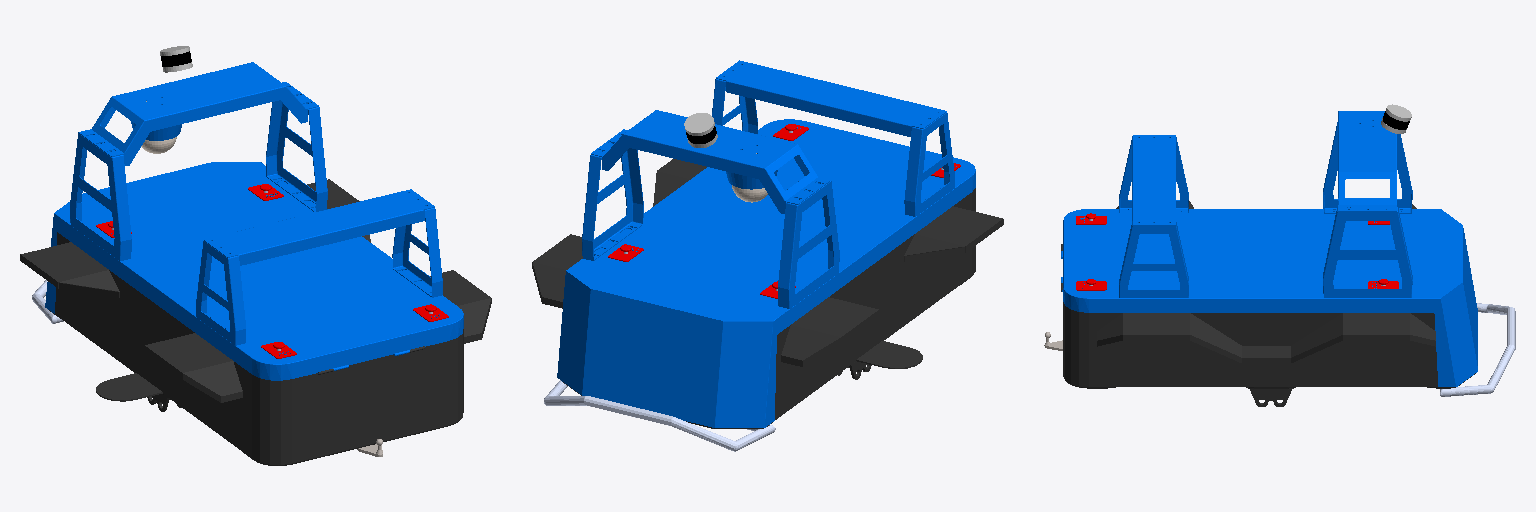
URDF robot description (RAMBLER):
<?xml version="1.0"?>
<robot name="RAMBLER">
    <link name="base_link">
    <origin xyz="-15.504313 -8.557643 3.314363" rpy="3.141593 3.141593 3.141593" />
    </link>

    <joint name="base_link_joint" type="fixed">
        <parent link="base_link" />
        <child link="robot_base" />
    </joint>

    <link name="robot_base">
        <inertial>
            <origin xyz="-15.504313 -8.557643 3.314363" rpy="3.141593 3.141593 3.141593" />
            <inertia ixz="0.012955593294464" iyz="-0.62177264336981" izz="55.457934895277" ixy="0.0033341139937936" ixx="47.602401586312" iyy="25.482708212512" />
            <mass value="166.16000366211" />
        </inertial>

        <visual name="Chasis_1">
            <origin xyz="-15.524034 -8.549997 3.433629" rpy="3.141592 3.141593 3.141592" />
            <geometry>
                <mesh filename="rambler_Chasis_vis_1.dae" />
            </geometry>
            <material name="Chasis_material_1">
                <color rgba="0.000000 0.500000 1.000000 1.0" />
            </material>
        </visual>
        <visual name="Chasis_2">
            <origin xyz="-15.524034 -8.549997 3.433629" rpy="3.141592 3.141593 3.141592" />
            <geometry>
                <mesh filename="rambler_Chasis_vis_2.dae" />
            </geometry>
            <material name="Chasis_material_2">
                <color rgba="0.780000 0.750000 0.730000 1.0" />
            </material>
        </visual>
        <visual name="Chasis_3">
            <origin xyz="-15.524034 -8.549997 3.433629" rpy="3.141592 3.141593 3.141592" />
            <geometry>
                <mesh filename="rambler_Chasis_vis_3.dae" />
            </geometry>
            <material name="Chasis_material_3">
                <color rgba="0.860000 0.900000 1.000000 1.0" />
            </material>
        </visual>
        <visual name="Chasis_4">
            <origin xyz="-15.524034 -8.549997 3.433629" rpy="3.141592 3.141593 3.141592" />
            <geometry>
                <mesh filename="rambler_Chasis_vis_4.dae" />
            </geometry>
            <material name="Chasis_material_4">
                <color rgba="0.250000 0.250000 0.250000 1.0" />
            </material>
        </visual>
        <visual name="Chasis_5">
            <origin xyz="-15.524034 -8.549997 3.433629" rpy="3.141592 3.141593 3.141592" />
            <geometry>
                <mesh filename="rambler_Chasis_vis_5.dae" />
            </geometry>
            <material name="Chasis_material_5">
                <color rgba="0.750000 0.750000 0.750000 1.0" />
            </material>
        </visual>
        <visual name="Chasis_6">
            <origin xyz="-15.524034 -8.549997 3.433629" rpy="3.141592 3.141593 3.141592" />
            <geometry>
                <mesh filename="rambler_Chasis_vis_6.dae" />
            </geometry>
            <material name="Chasis_material_6">
                <color rgba="0.750000 0.750000 0.750000 1.0" />
            </material>
        </visual>
        <visual name="Chasis_7">
            <origin xyz="-15.524034 -8.549997 3.433629" rpy="3.141592 3.141593 3.141592" />
            <geometry>
                <mesh filename="rambler_Chasis_vis_7.dae" />
            </geometry>
            <material name="Chasis_material_7">
                <color rgba="0.750000 0.750000 0.750000 1.0" />
            </material>
        </visual>
        <visual name="Chasis_8">
            <origin xyz="-15.524034 -8.549997 3.433629" rpy="3.141592 3.141593 3.141592" />
            <geometry>
                <mesh filename="rambler_Chasis_vis_8.dae" />
            </geometry>
            <material name="Chasis_material_8">
                <color rgba="0.750000 0.750000 0.750000 1.0" />
            </material>
        </visual>
        <visual name="Chasis_9">
            <origin xyz="-15.524034 -8.549997 3.433629" rpy="3.141592 3.141593 3.141592" />
            <geometry>
                <mesh filename="rambler_Chasis_vis_9.dae" />
            </geometry>
            <material name="Chasis_material_9">
                <color rgba="0.750000 0.750000 0.750000 1.0" />
            </material>
        </visual>
        <visual name="Chasis_10">
            <origin xyz="-15.524034 -8.549997 3.433629" rpy="3.141592 3.141593 3.141592" />
            <geometry>
                <mesh filename="rambler_Chasis_vis_10.dae" />
            </geometry>
            <material name="Chasis_material_10">
                <color rgba="0.750000 0.750000 0.750000 1.0" />
            </material>
        </visual>
        <visual name="Chasis_11">
            <origin xyz="-15.524034 -8.549997 3.433629" rpy="3.141592 3.141593 3.141592" />
            <geometry>
                <mesh filename="rambler_Chasis_vis_11.dae" />
            </geometry>
            <material name="Chasis_material_11">
                <color rgba="0.750000 0.750000 0.750000 1.0" />
            </material>
        </visual>
        <visual name="Chasis_12">
            <origin xyz="-15.524034 -8.549997 3.433629" rpy="3.141592 3.141593 3.141592" />
            <geometry>
                <mesh filename="rambler_Chasis_vis_12.dae" />
            </geometry>
            <material name="Chasis_material_12">
                <color rgba="0.750000 0.750000 0.750000 1.0" />
            </material>
        </visual>
        <visual name="Chasis_13">
            <origin xyz="-15.524034 -8.549997 3.433629" rpy="3.141592 3.141593 3.141592" />
            <geometry>
                <mesh filename="rambler_Chasis_vis_13.dae" />
            </geometry>
            <material name="Chasis_material_13">
                <color rgba="0.000000 0.500000 1.000000 1.0" />
            </material>
        </visual>
        <visual name="Chasis_14">
            <origin xyz="-15.524034 -8.549997 3.433629" rpy="3.141592 3.141593 3.141592" />
            <geometry>
                <mesh filename="rambler_Chasis_vis_14.dae" />
            </geometry>
            <material name="Chasis_material_14">
                <color rgba="0.000000 0.500000 1.000000 1.0" />
            </material>
        </visual>
        <visual name="Chasis_15">
            <origin xyz="-15.524034 -8.549997 3.433629" rpy="3.141592 3.141593 3.141592" />
            <geometry>
                <mesh filename="rambler_Chasis_vis_15.dae" />
            </geometry>
            <material name="Chasis_material_15">
                <color rgba="0.000000 0.500000 1.000000 1.0" />
            </material>
        </visual>
        <visual name="Chasis_16">
            <origin xyz="-15.524034 -8.549997 3.433629" rpy="3.141592 3.141593 3.141592" />
            <geometry>
                <mesh filename="rambler_Chasis_vis_16.dae" />
            </geometry>
            <material name="Chasis_material_16">
                <color rgba="0.000000 0.500000 1.000000 1.0" />
            </material>
        </visual>
        <visual name="Chasis_17">
            <origin xyz="-15.524034 -8.549997 3.433629" rpy="3.141592 3.141593 3.141592" />
            <geometry>
                <mesh filename="rambler_Chasis_vis_17.dae" />
            </geometry>
            <material name="Chasis_material_17">
                <color rgba="0.000000 0.500000 1.000000 1.0" />
            </material>
        </visual>
        <visual name="Chasis_18">
            <origin xyz="-15.524034 -8.549997 3.433629" rpy="3.141592 3.141593 3.141592" />
            <geometry>
                <mesh filename="rambler_Chasis_vis_18.dae" />
            </geometry>
            <material name="Chasis_material_18">
                <color rgba="0.000000 0.500000 1.000000 1.0" />
            </material>
        </visual>
        <visual name="Chasis_19">
            <origin xyz="-15.524034 -8.549997 3.433629" rpy="3.141592 3.141593 3.141592" />
            <geometry>
                <mesh filename="rambler_Chasis_vis_19.dae" />
            </geometry>
            <material name="Chasis_material_19">
                <color rgba="0.000000 0.500000 1.000000 1.0" />
            </material>
        </visual>
        <visual name="Chasis_20">
            <origin xyz="-15.524034 -8.549997 3.433629" rpy="3.141592 3.141593 3.141592" />
            <geometry>
                <mesh filename="rambler_Chasis_vis_20.dae" />
            </geometry>
            <material name="Chasis_material_20">
                <color rgba="0.850000 0.850000 1.000000 1.0" />
            </material>
        </visual>
        <visual name="Chasis_21">
            <origin xyz="-15.524034 -8.549997 3.433629" rpy="3.141592 3.141593 3.141592" />
            <geometry>
                <mesh filename="rambler_Chasis_vis_21.dae" />
            </geometry>
            <material name="Chasis_material_21">
                <color rgba="1.000000 0.000000 0.000000 1.0" />
            </material>
        </visual>
        <visual name="Chasis_22">
            <origin xyz="-15.524034 -8.549997 3.433629" rpy="3.141592 3.141593 3.141592" />
            <geometry>
                <mesh filename="rambler_Chasis_vis_22.dae" />
            </geometry>
            <material name="Chasis_material_22">
                <color rgba="1.000000 0.000000 0.000000 1.0" />
            </material>
        </visual>
        <visual name="Chasis_23">
            <origin xyz="-15.524034 -8.549997 3.433629" rpy="3.141592 3.141593 3.141592" />
            <geometry>
                <mesh filename="rambler_Chasis_vis_23.dae" />
            </geometry>
            <material name="Chasis_material_23">
                <color rgba="0.850000 0.850000 1.000000 1.0" />
            </material>
        </visual>
        <visual name="Chasis_24">
            <origin xyz="-15.524034 -8.549997 3.433629" rpy="3.141592 3.141593 3.141592" />
            <geometry>
                <mesh filename="rambler_Chasis_vis_24.dae" />
            </geometry>
            <material name="Chasis_material_24">
                <color rgba="0.850000 0.850000 1.000000 1.0" />
            </material>
        </visual>
        <visual name="Chasis_25">
            <origin xyz="-15.524034 -8.549997 3.433629" rpy="3.141592 3.141593 3.141592" />
            <geometry>
                <mesh filename="rambler_Chasis_vis_25.dae" />
            </geometry>
            <material name="Chasis_material_25">
                <color rgba="1.000000 0.000000 0.000000 1.0" />
            </material>
        </visual>
        <visual name="Chasis_26">
            <origin xyz="-15.524034 -8.549997 3.433629" rpy="3.141592 3.141593 3.141592" />
            <geometry>
                <mesh filename="rambler_Chasis_vis_26.dae" />
            </geometry>
            <material name="Chasis_material_26">
                <color rgba="1.000000 0.000000 0.000000 1.0" />
            </material>
        </visual>
        <visual name="Chasis_27">
            <origin xyz="-15.524034 -8.549997 3.433629" rpy="3.141592 3.141593 3.141592" />
            <geometry>
                <mesh filename="rambler_Chasis_vis_27.dae" />
            </geometry>
            <material name="Chasis_material_27">
                <color rgba="0.850000 0.850000 1.000000 1.0" />
            </material>
        </visual>
        <visual name="Chasis_28">
            <origin xyz="-15.524034 -8.549997 3.433629" rpy="3.141592 3.141593 3.141592" />
            <geometry>
                <mesh filename="rambler_Chasis_vis_28.dae" />
            </geometry>
            <material name="Chasis_material_28">
                <color rgba="0.850000 0.850000 1.000000 1.0" />
            </material>
        </visual>
        <visual name="Chasis_29">
            <origin xyz="-15.524034 -8.549997 3.433629" rpy="3.141592 3.141593 3.141592" />
            <geometry>
                <mesh filename="rambler_Chasis_vis_29.dae" />
            </geometry>
            <material name="Chasis_material_29">
                <color rgba="1.000000 0.000000 0.000000 1.0" />
            </material>
        </visual>
        <visual name="Chasis_30">
            <origin xyz="-15.524034 -8.549997 3.433629" rpy="3.141592 3.141593 3.141592" />
            <geometry>
                <mesh filename="rambler_Chasis_vis_30.dae" />
            </geometry>
            <material name="Chasis_material_30">
                <color rgba="1.000000 0.000000 0.000000 1.0" />
            </material>
        </visual>
        <visual name="Chasis_31">
            <origin xyz="-15.524034 -8.549997 3.433629" rpy="3.141592 3.141593 3.141592" />
            <geometry>
                <mesh filename="rambler_Chasis_vis_31.dae" />
            </geometry>
            <material name="Chasis_material_31">
                <color rgba="0.850000 0.850000 1.000000 1.0" />
            </material>
        </visual>
        <visual name="Chasis_32">
            <origin xyz="-15.524034 -8.549997 3.433629" rpy="3.141592 3.141593 3.141592" />
            <geometry>
                <mesh filename="rambler_Chasis_vis_32.dae" />
            </geometry>
            <material name="Chasis_material_32">
                <color rgba="0.850000 0.850000 1.000000 1.0" />
            </material>
        </visual>
        <visual name="Chasis_33">
            <origin xyz="-15.524034 -8.549997 3.433629" rpy="3.141592 3.141593 3.141592" />
            <geometry>
                <mesh filename="rambler_Chasis_vis_33.dae" />
            </geometry>
            <material name="Chasis_material_33">
                <color rgba="1.000000 0.000000 0.000000 1.0" />
            </material>
        </visual>
        <visual name="Chasis_34">
            <origin xyz="-15.524034 -8.549997 3.433629" rpy="3.141592 3.141593 3.141592" />
            <geometry>
                <mesh filename="rambler_Chasis_vis_34.dae" />
            </geometry>
            <material name="Chasis_material_34">
                <color rgba="1.000000 0.000000 0.000000 1.0" />
            </material>
        </visual>
        <visual name="Chasis_35">
            <origin xyz="-15.524034 -8.549997 3.433629" rpy="3.141592 3.141593 3.141592" />
            <geometry>
                <mesh filename="rambler_Chasis_vis_35.dae" />
            </geometry>
            <material name="Chasis_material_35">
                <color rgba="0.850000 0.850000 1.000000 1.0" />
            </material>
        </visual>
        <visual name="Chasis_36">
            <origin xyz="-15.524034 -8.549997 3.433629" rpy="3.141592 3.141593 3.141592" />
            <geometry>
                <mesh filename="rambler_Chasis_vis_36.dae" />
            </geometry>
            <material name="Chasis_material_36">
                <color rgba="1.000000 0.950000 0.900000 1.0" />
            </material>
        </visual>

        <visual name="VelodyneVPL16_1">
            <origin xyz="-0.000000 0.000000 -0.000000" rpy="-3.141593 3.141593 -3.141593" />
            <geometry>
                <mesh filename="rambler_VelodyneVPL16_vis_1.dae" />
            </geometry>
            <material name="VelodyneVPL16_material_1">
                <color rgba="0.780000 0.780000 0.780000 1.0" />
            </material>
        </visual>
        <visual name="VelodyneVPL16_2">
            <origin xyz="-0.000000 0.000000 -0.000000" rpy="-3.141593 3.141593 -3.141593" />
            <geometry>
                <mesh filename="rambler_VelodyneVPL16_vis_2.dae" />
            </geometry>
            <material name="VelodyneVPL16_material_2">
                <color rgba="0.000000 0.000000 0.000000 1.0" />
            </material>
        </visual>
    </link>
</robot>

--- What the picture shows (computed from the rendered views, not written in the file) ---
The picture shows the robot from 3 angles, left to right: view 1: azimuth 30°, elevation 25°; view 2: azimuth 150°, elevation 25°; view 3: azimuth 270°, elevation 25°; orthographic projection.
Robot: RAMBLER — 2 links, 1 joints (1 fixed); root link base_link; default pose: every joint at zero.
Links seen in each view (by area): view 1: robot_base; view 2: robot_base; view 3: robot_base.
Link boxes in pixels (x1,y1,x2,y2): robot_base: [20, 46, 491, 465]; robot_base: [532, 60, 1003, 451]; robot_base: [1044, 104, 1515, 406].
Bounding box of the posed robot: 1.22 × 1.82 × 1.09 m (x, y, z).
Meshes: 38 distinct files referenced, 38 mesh visuals loaded (38 Collada DAE).
